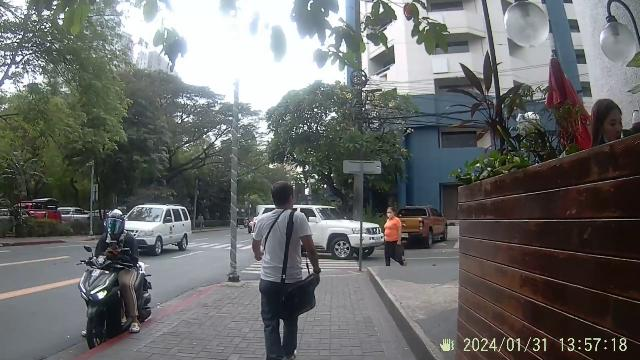motorcycle: (70, 238, 160, 350)
street_sign: (344, 160, 380, 272)
utility_post: (227, 88, 243, 286)
